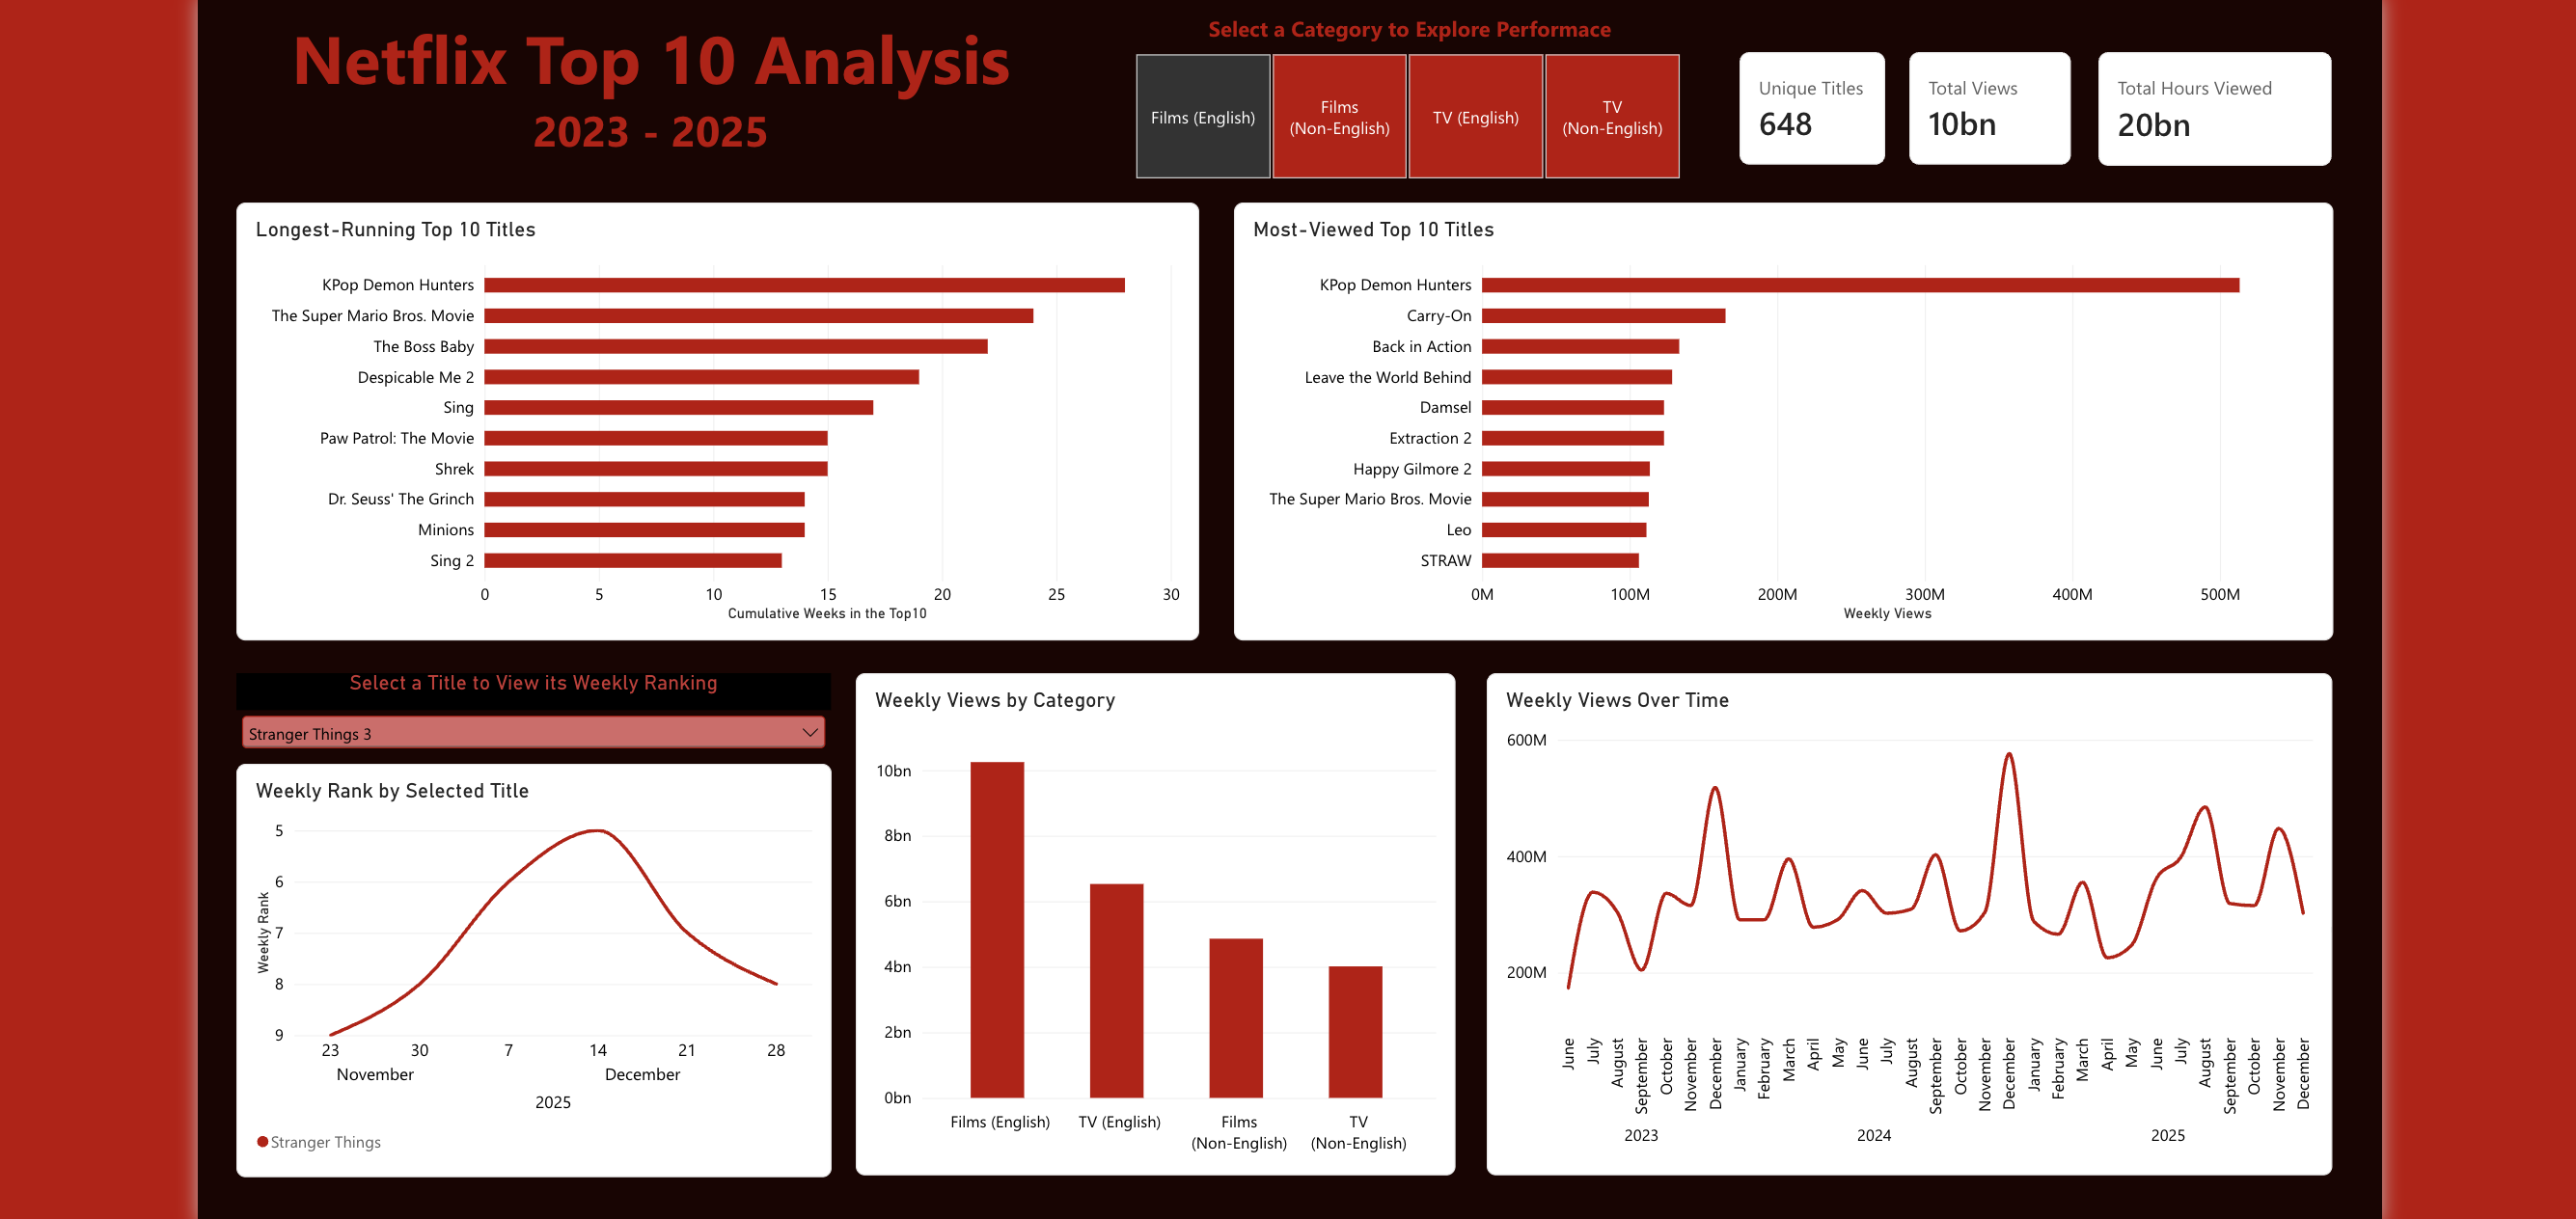

The page's visual inventory and layout, read from the dashboard file:
{"tool":"powerbi","page":{"name":"Top 10 Dashboard","canvas":[1920,1080],"ordinal":2},"visuals":[{"type":"clusteredBarChart","title":"Longest-Running Top 10 Titles","fields":{"Category":["Top 10.Title Display"],"Y":["Max(Top 10.cumulative_weeks_in_top_10)"]},"box":[34.3,181.5,846,385],"z":0},{"type":"clusteredBarChart","title":"Most-Viewed Top 10 Titles","fields":{"Category":["Top 10.Title Display"],"Y":["Sum(Top 10.weekly_views)"]},"box":[909.7,181.5,966.1,385],"z":1000},{"type":"lineChart","title":"Weekly Rank by Selected Title","fields":{"Category":["Top 10.week.Variation.Date Hierarchy.Year","Top 10.week.Variation.Date Hierarchy.Month","Top 10.week.Variation.Date Hierarchy.Day"],"Series":["Top 10.show_title"],"Y":["Sum(Top 10.weekly_rank)"]},"box":[33.3,674.9,522.8,363.6],"z":2000},{"type":"slicer","title":"Select a Title to View its Weekly Ranking","fields":{"Values":["Top 10.Title Display"]},"box":[34.3,595.9,522.3,78.5],"z":3000},{"type":"lineChart","title":"Weekly Views Over Time","fields":{"Category":["Top 10.week.Variation.Date Hierarchy.Year","Top 10.week.Variation.Date Hierarchy.Month"],"Y":["Sum(Top 10.weekly_views)"]},"box":[1132.9,595.9,743,441.4],"z":4000},{"type":"clusteredColumnChart","title":"Weekly Views by Category","fields":{"Category":["Top 10.category"],"Y":["Sum(Top 10.weekly_views)"]},"box":[578.7,595.9,527.2,441.4],"z":4001},{"type":"cardVisual","fields":{"Data":["Count(Top 10.show_title)"]},"box":[1354.5,49.9,128.3,99.8],"z":4002},{"type":"slicer","fields":{"Values":["Top 10.category"]},"box":[804.3,49,517.4,112.8],"z":4003},{"type":"cardVisual","fields":{"Data":["Sum(Top 10.weekly_views)"]},"box":[1504.2,49.9,142.6,99.8],"z":4004},{"type":"cardVisual","fields":{"Data":["Sum(Top 10.weekly_hours_viewed)"]},"box":[1669.9,49,206,100.5],"z":4005},{"type":"textbox","box":[33,14,732,150],"z":4006},{"type":"textbox","box":[880.3,14.7,370.3,34.3],"z":4007}]}

Visuals, with their boxes on the page's 1920x1080 design canvas (x1, y1, x2, y2). These are canvas units, not pixel positions in the 2576x1219 screenshot, which may show the page scaled, cropped or inside an application window:
"Longest-Running Top 10 Titles" clusteredBarChart: region(34, 182, 880, 566)
"Most-Viewed Top 10 Titles" clusteredBarChart: region(910, 182, 1876, 566)
"Weekly Rank by Selected Title" lineChart: region(33, 675, 556, 1038)
"Select a Title to View its Weekly Ranking" slicer: region(34, 596, 557, 674)
"Weekly Views Over Time" lineChart: region(1133, 596, 1876, 1037)
"Weekly Views by Category" clusteredColumnChart: region(579, 596, 1106, 1037)
cardVisual - Count(Top 10.show_title): region(1354, 50, 1483, 150)
slicer - Top 10.category: region(804, 49, 1322, 162)
cardVisual - Sum(Top 10.weekly_views): region(1504, 50, 1647, 150)
cardVisual - Sum(Top 10.weekly_hours_viewed): region(1670, 49, 1876, 150)
textbox: region(33, 14, 765, 164)
textbox: region(880, 15, 1251, 49)
